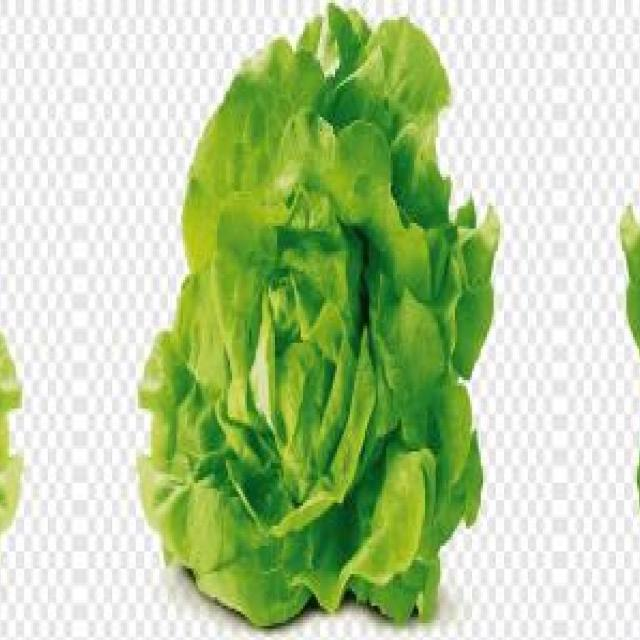healthy: (144, 3, 501, 623), (619, 3, 640, 623), (0, 3, 16, 623)
